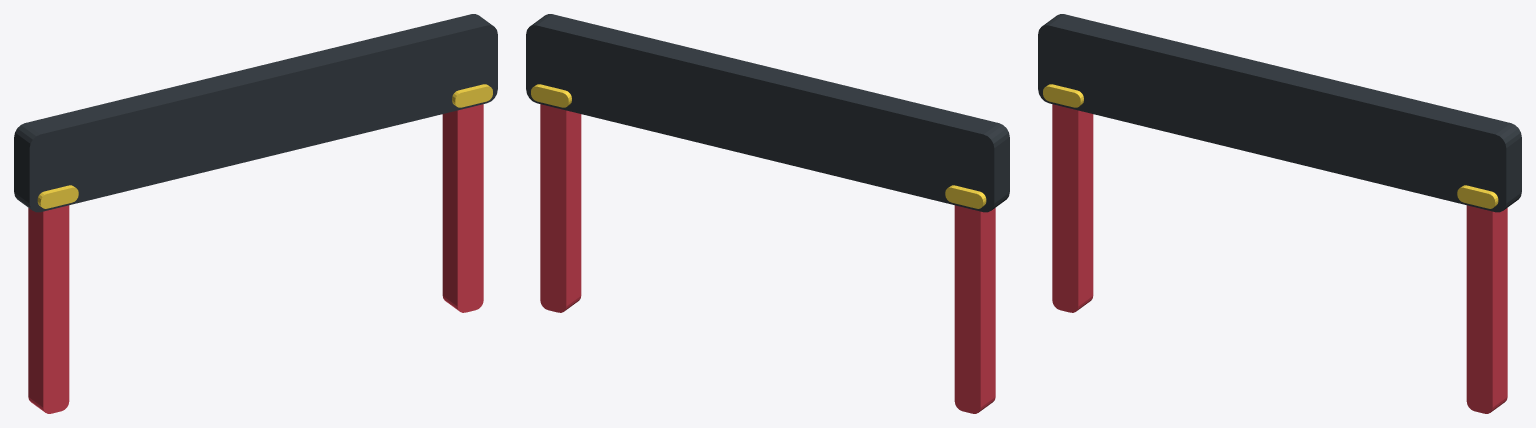
Rendered from gantry.glb.
3 views of the same model, side by side, from view 1: azimuth 30°, elevation 25°; view 2: azimuth 150°, elevation 25°; view 3: azimuth 330°, elevation 25° (orthographic).
Parts seen in each view (by area): view 1: frame, posts, caps; view 2: frame, posts, caps; view 3: frame, posts, caps.
Part boxes in pixels (bbox=[...]): frame: bbox=[14, 14, 497, 212]; posts: bbox=[28, 104, 483, 413]; caps: bbox=[37, 84, 492, 208]; frame: bbox=[526, 14, 1009, 212]; posts: bbox=[540, 104, 995, 413]; caps: bbox=[531, 84, 986, 208]; frame: bbox=[1038, 14, 1521, 212]; posts: bbox=[1052, 104, 1507, 413]; caps: bbox=[1043, 84, 1498, 208].
Bounding box in the file's own units: 14.8 × 8.52 × 1.2.
